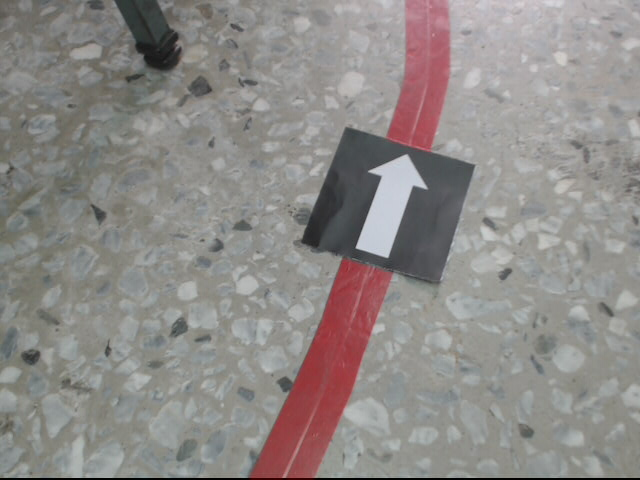straight: (301, 121, 475, 286)
